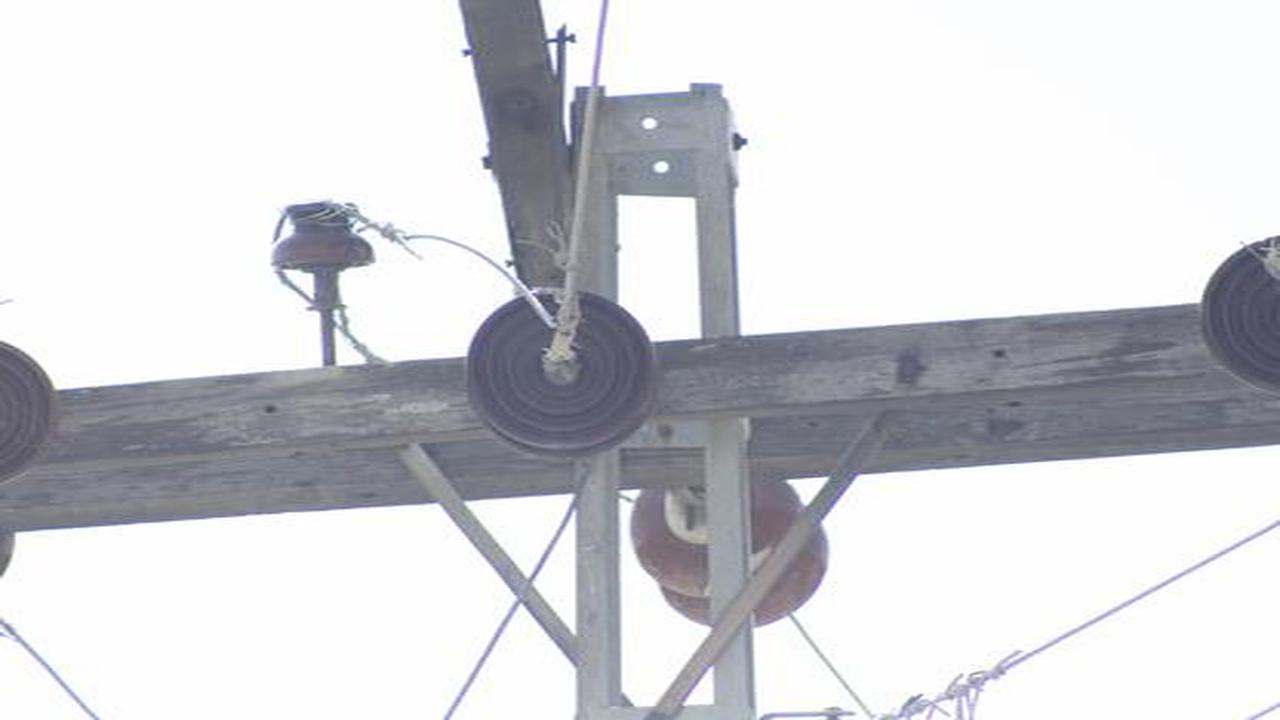insulator_disc: (459, 288, 654, 456), (631, 484, 827, 619)
insulator_pin: (265, 200, 380, 281)
